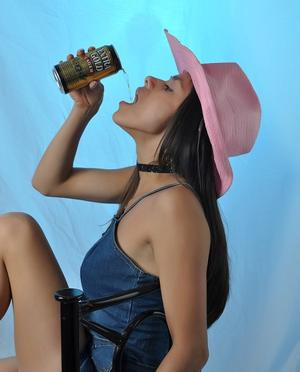person: (2, 30, 263, 372)
